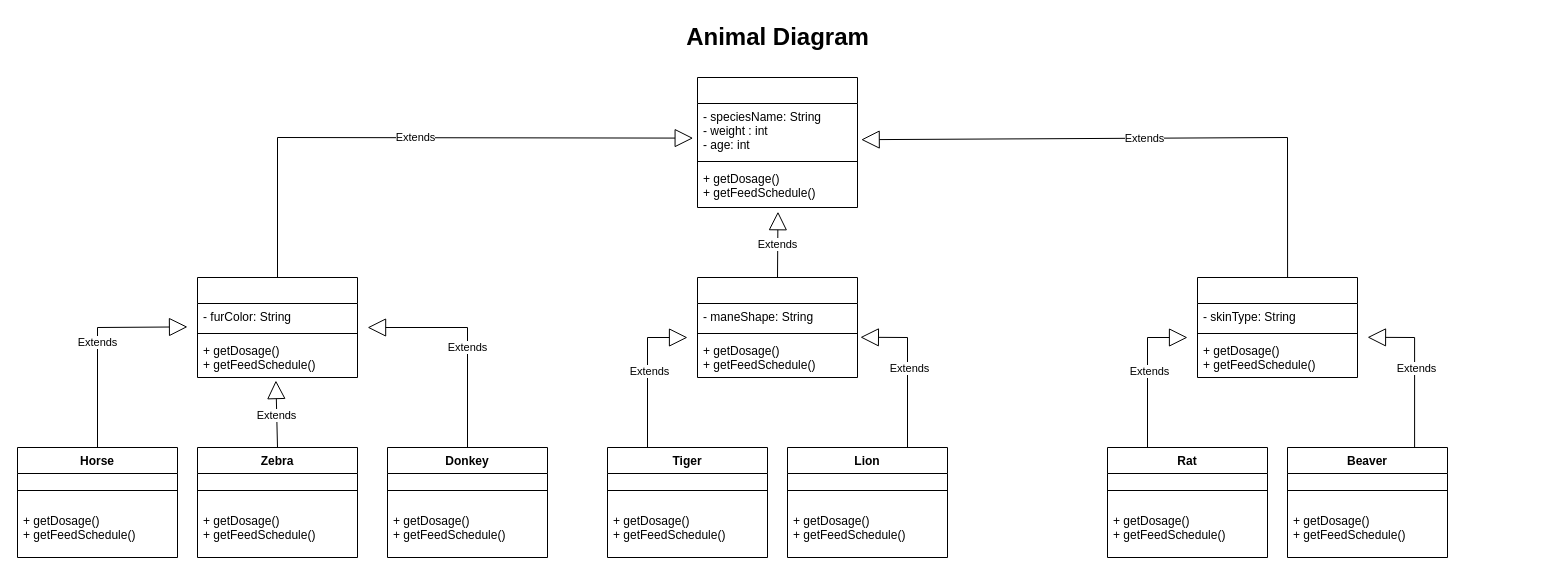
The diagram is 1550 pixels wide and 577 high, and some of its shapes have lost their labels. Here are the shapes that lost their labels. From the top down, the box of each, then its label:
(696, 76, 858, 208): Animals
(196, 276, 358, 378): Horses
(696, 276, 858, 378): Felines
(1196, 276, 1358, 378): Rodents
